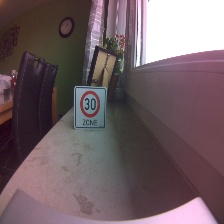dreisiger_zone: (73, 86, 106, 130)
